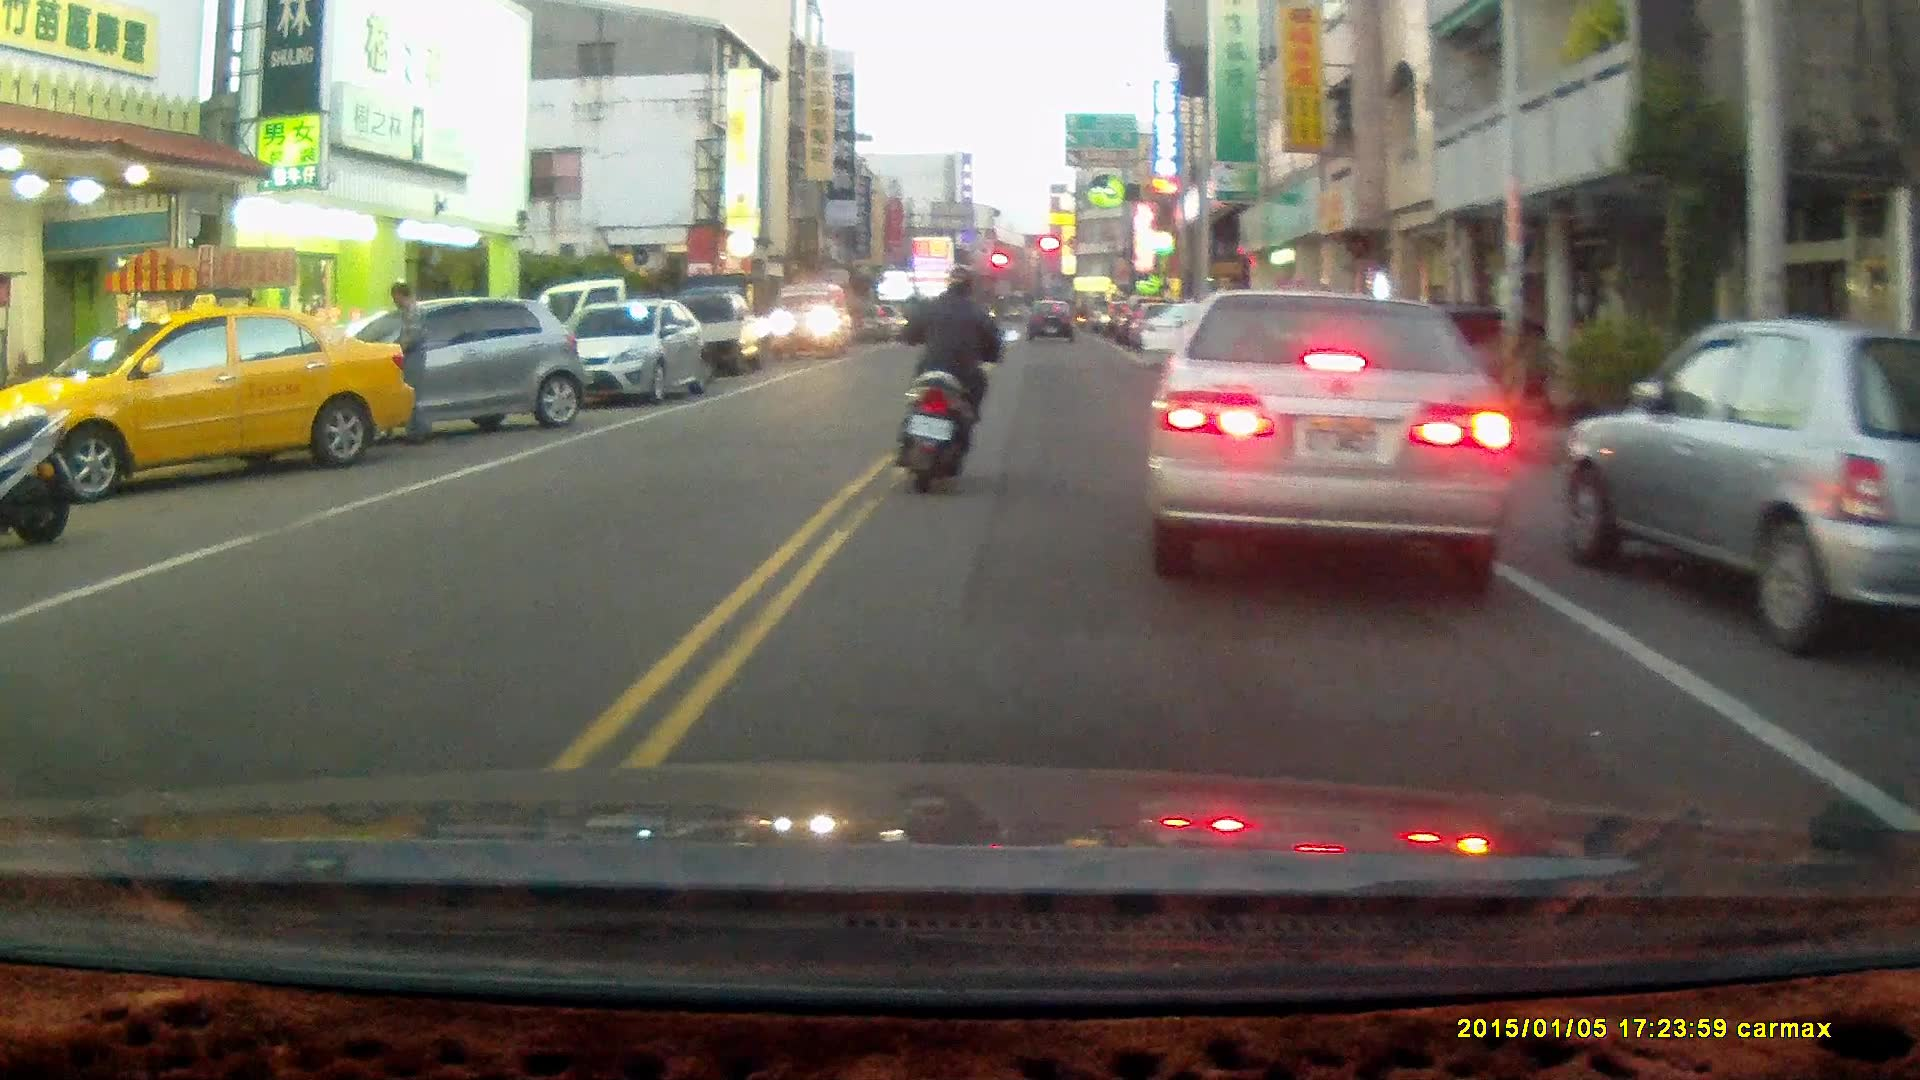pedestrian: (383, 279, 442, 448)
rider: (892, 258, 1019, 490)
vehicle: (1570, 309, 1920, 647), (1140, 280, 1521, 581), (1, 304, 416, 504), (307, 292, 592, 431), (565, 297, 717, 406), (705, 285, 799, 379), (771, 279, 855, 356)
